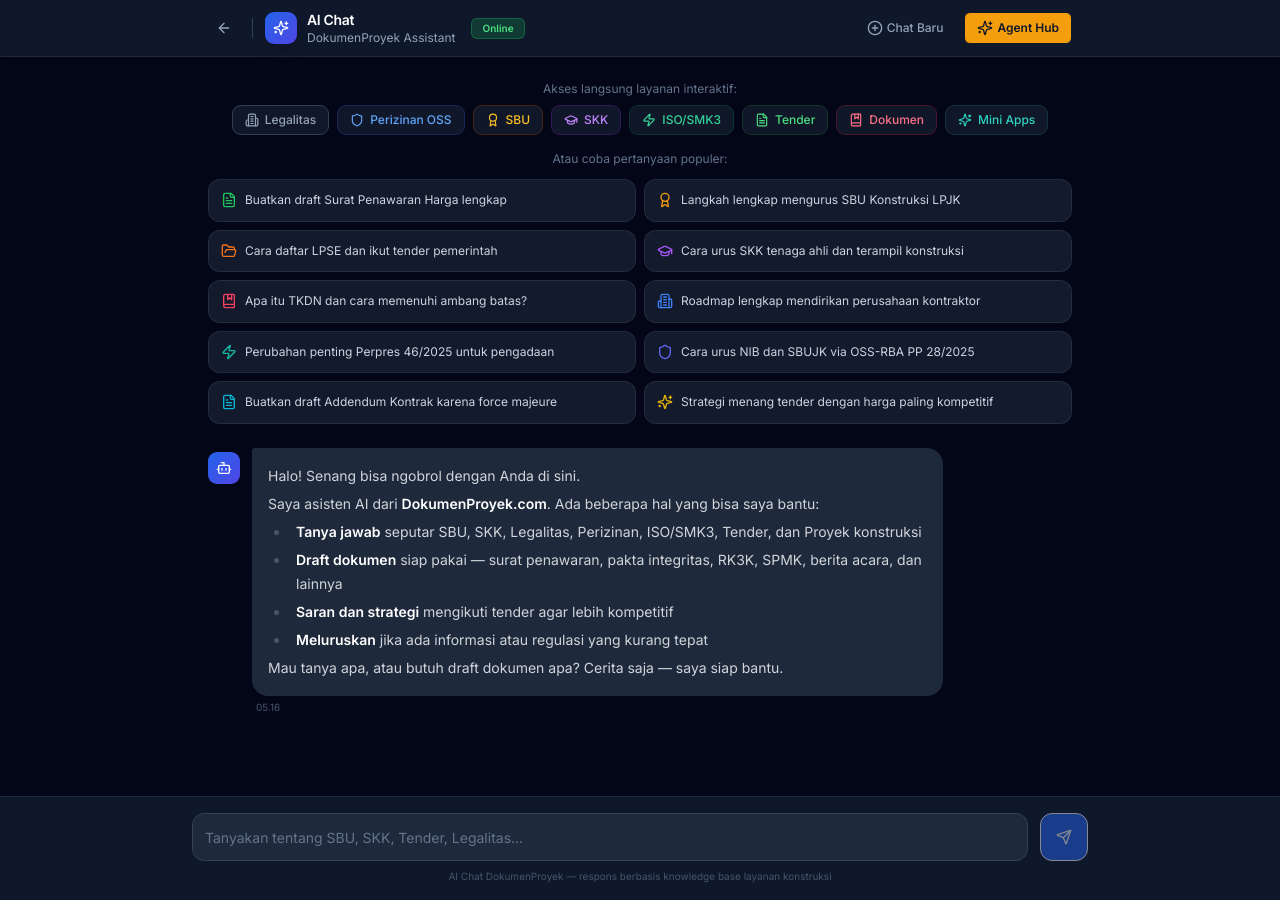
Test case: AIChat – error message rendering › shows 'Masuk untuk melanjutkan' login link pointing to /api/login when server returns 401
The image size is (1280, 900).
Type "Unauthenticated message" into the field with test id "input-chat" at (610, 837), box [192,813,1028,861]
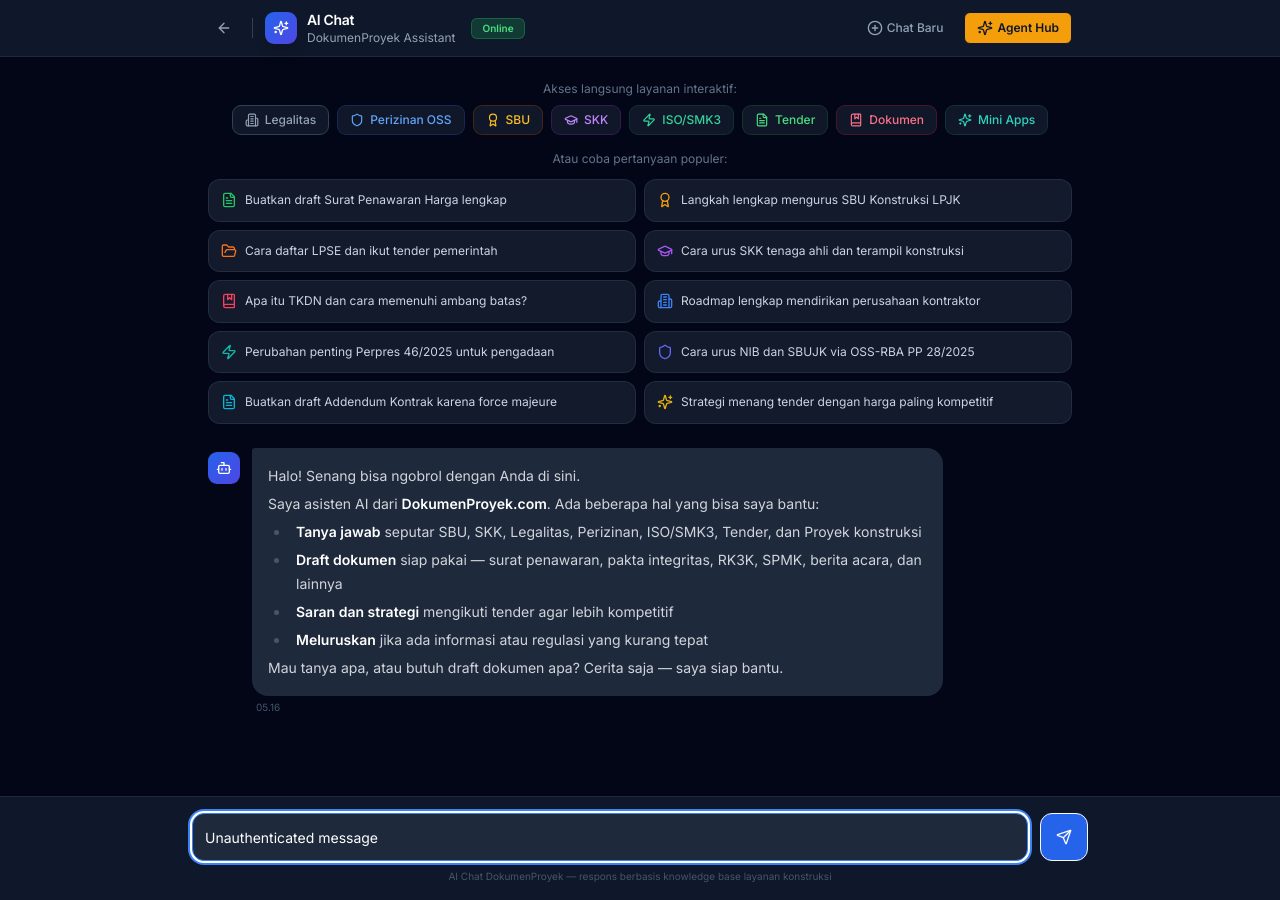
Click the button with test id "button-send-chat" at (1064, 837), box [1040,813,1088,861]
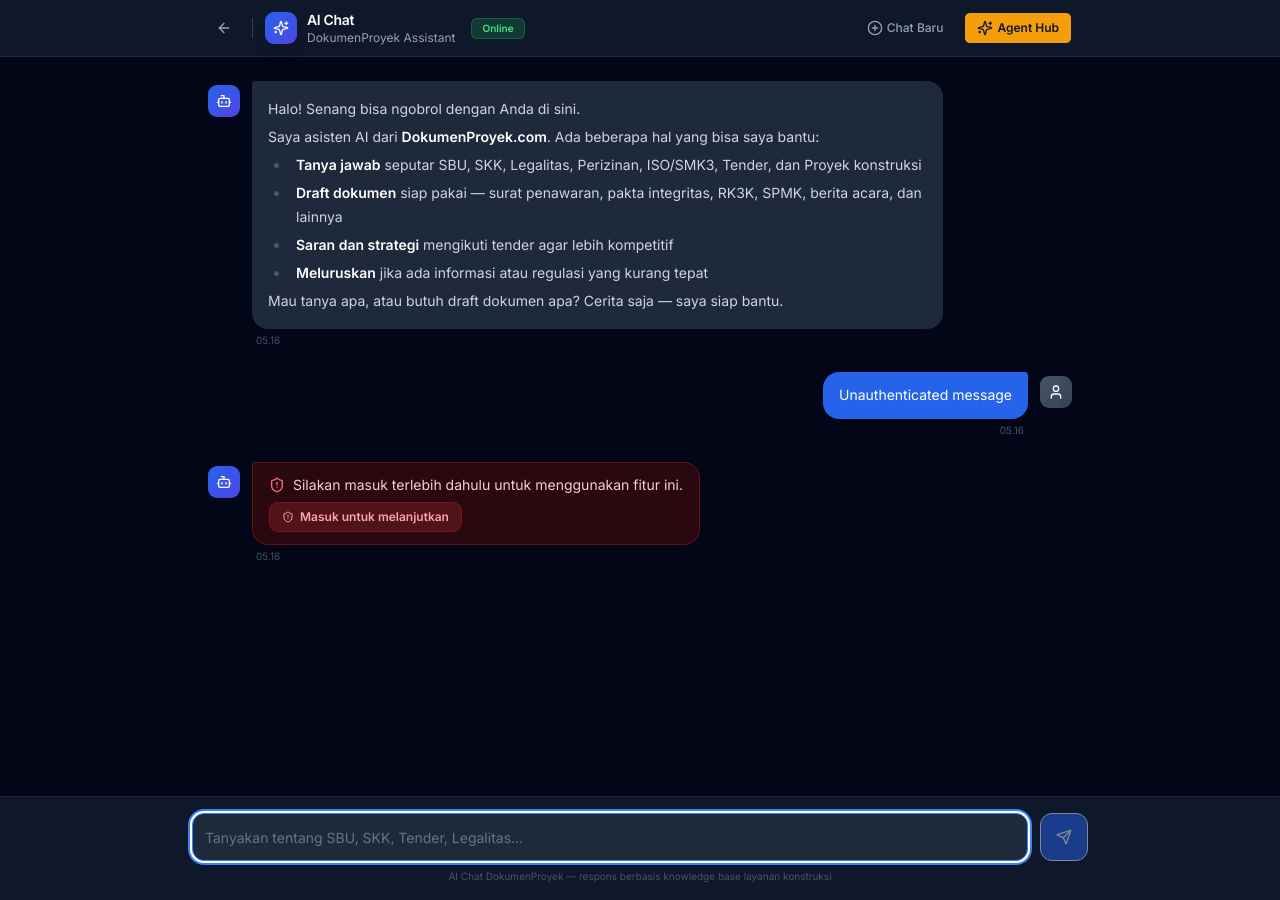
Expected: the text "Silakan masuk terlebih dahulu untuk menggunakan fitur ini." is shown, [293,475,683,494]
Expected: the link with test id "link-login-from-chat" reads "Masuk untuk melanjutkan", [269,502,462,532]
